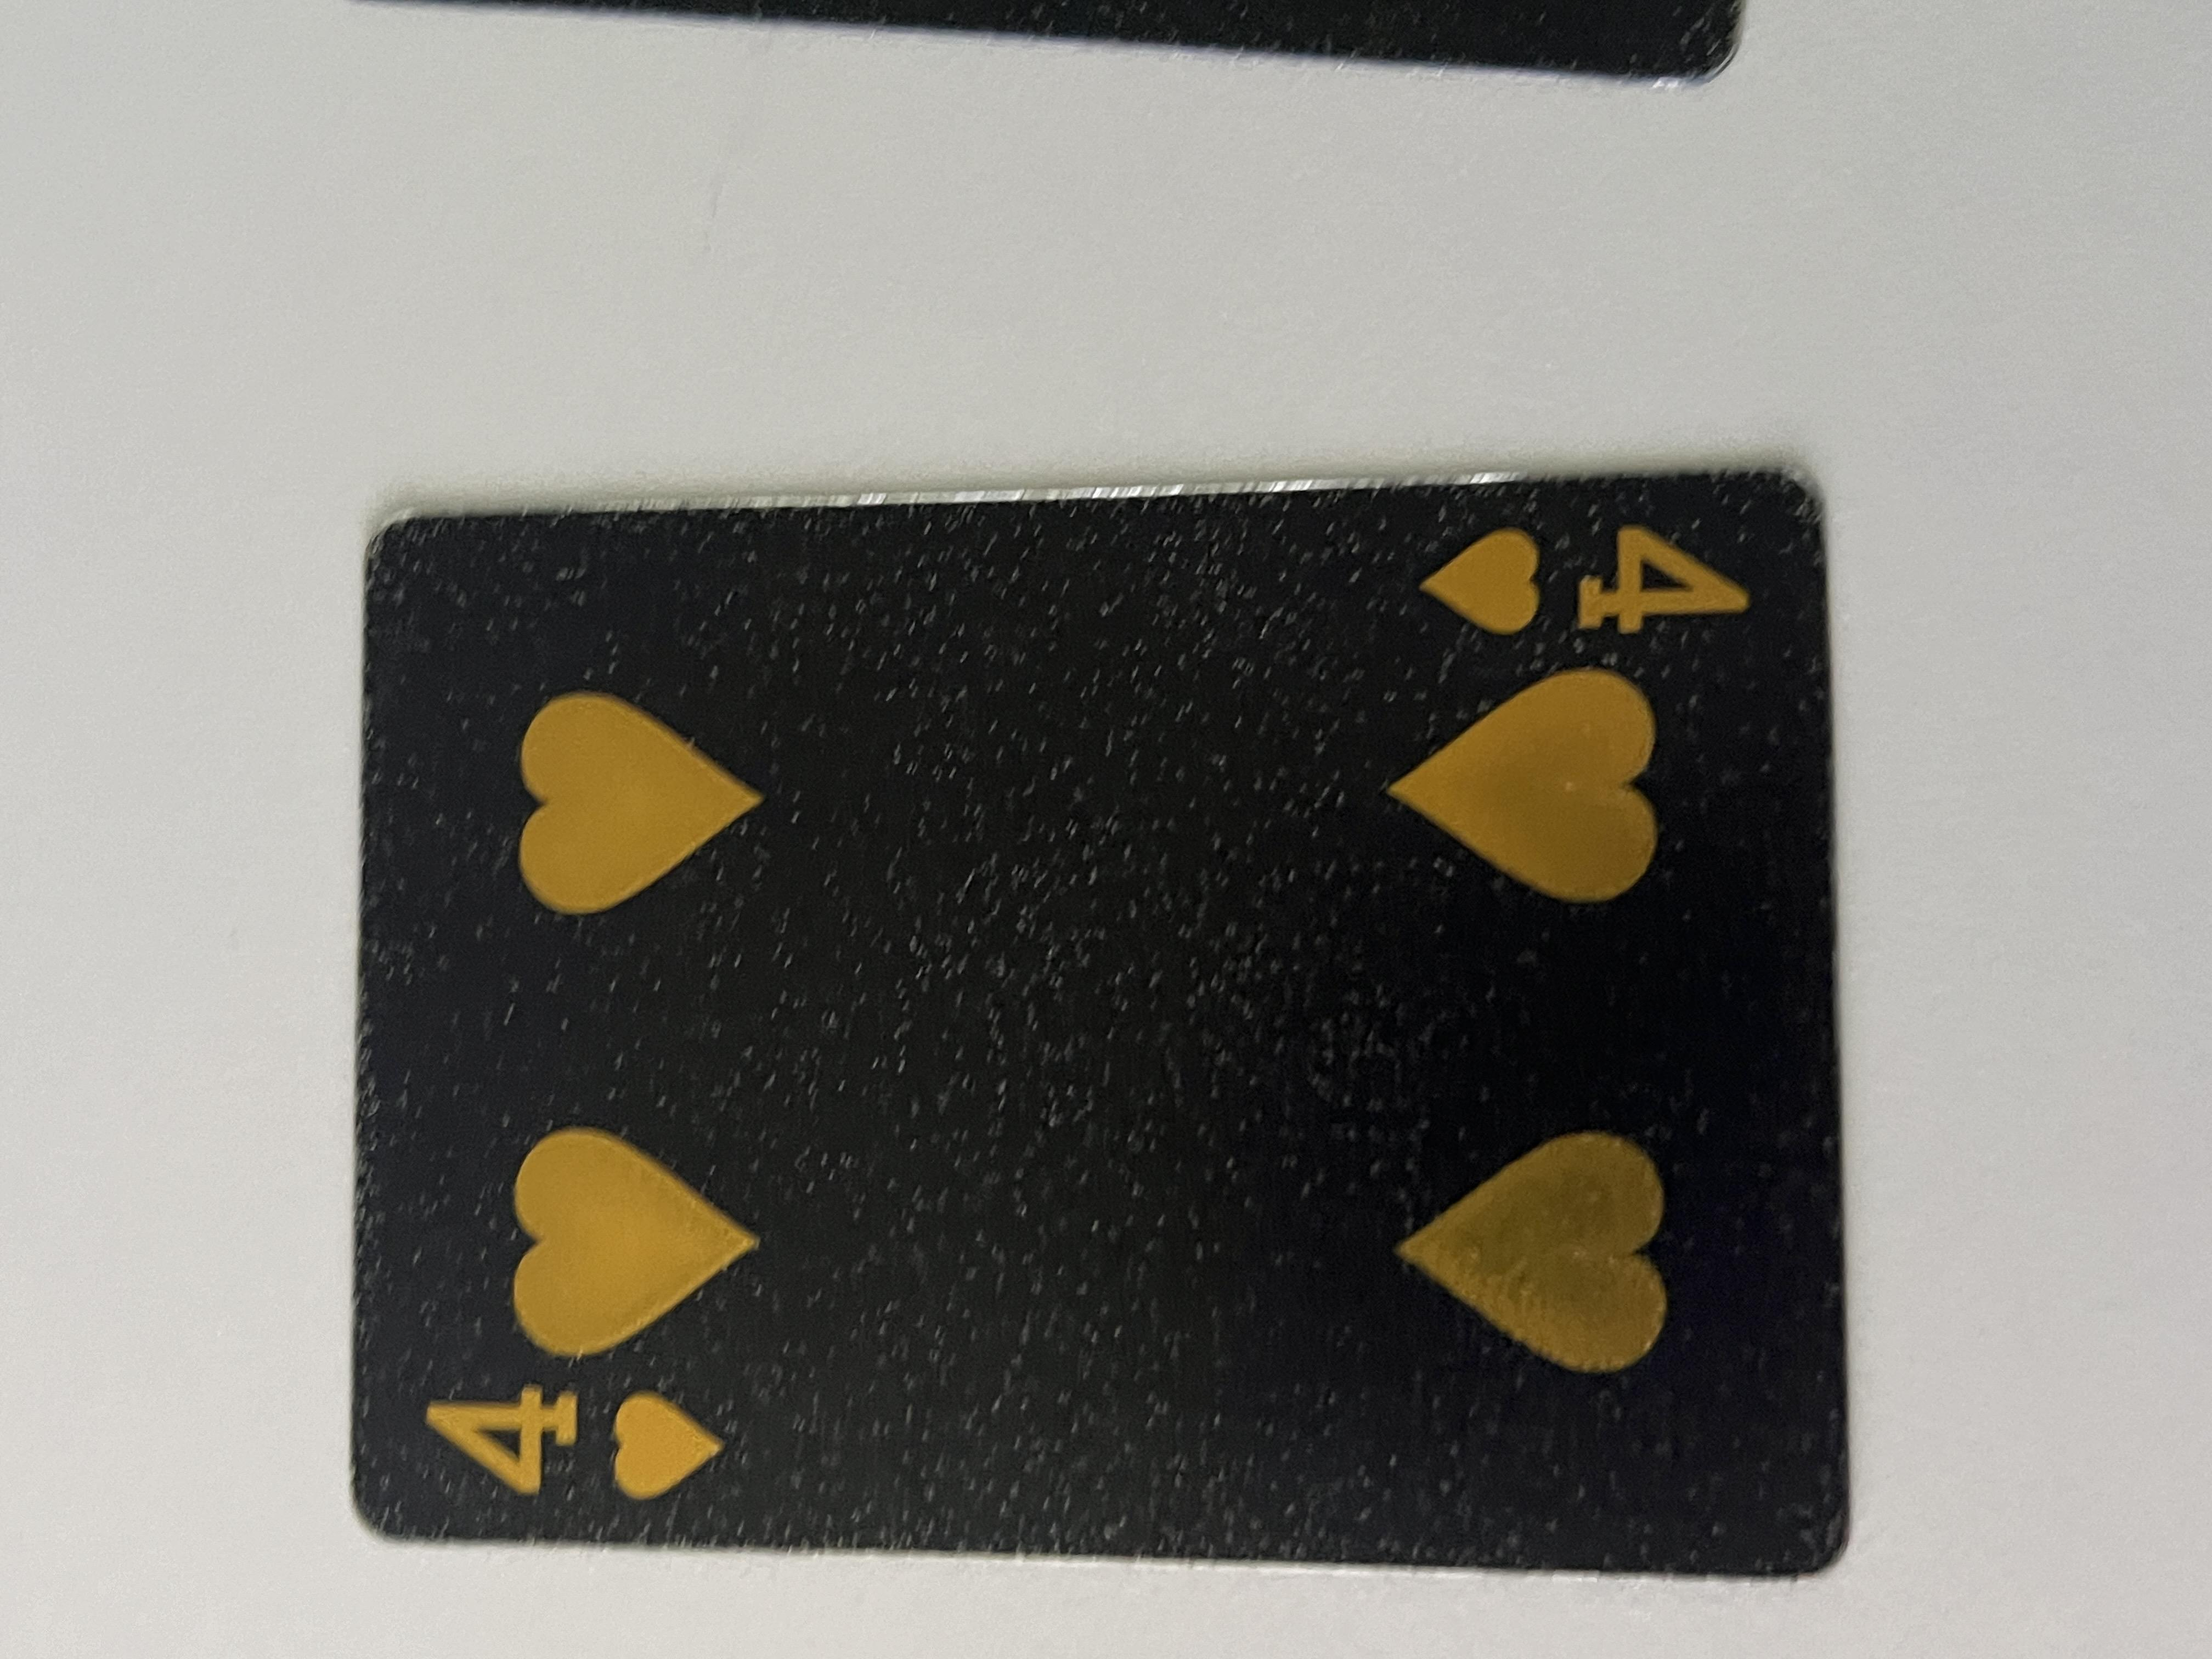4H: (1320, 1051, 1536, 1344), (183, 308, 399, 545)
